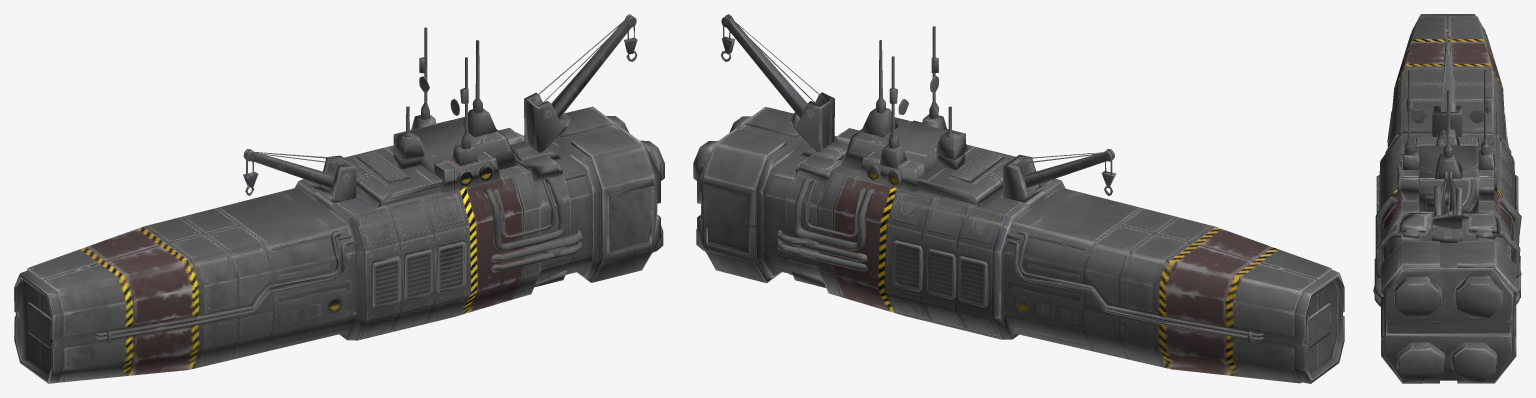
File: mothership.glb
3 views of the same model, side by side, from view 1: azimuth 30°, elevation 25°; view 2: azimuth 150°, elevation 25°; view 3: azimuth 270°, elevation 25° (orthographic). The views are drawn at different scales.
Parts seen in each view (by area): view 1: mothership; view 2: mothership; view 3: mothership.
Boxes of the visible parts, <box> form: mothership: <box>14,14,664,383</box>; mothership: <box>693,14,1344,383</box>; mothership: <box>1373,14,1521,383</box>.
Bounding box in the file's own units: 1200 × 482 × 274.
1 material, 1 textured.
